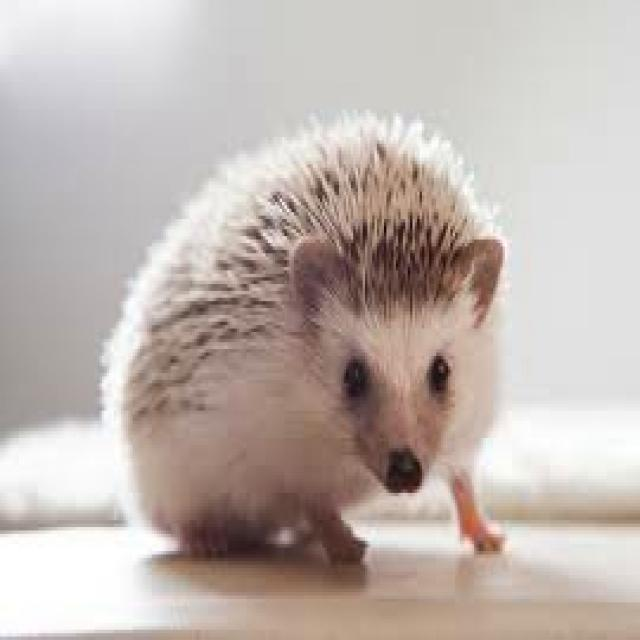hedgehog: (102, 113, 505, 561)
